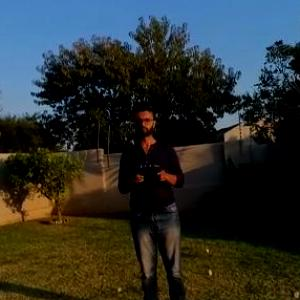follow: (113, 95, 193, 299)
